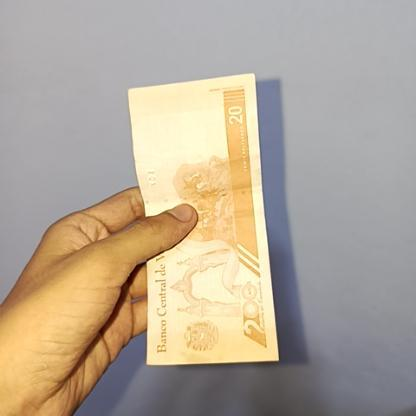twenty-back-vef: (128, 73, 276, 366)
